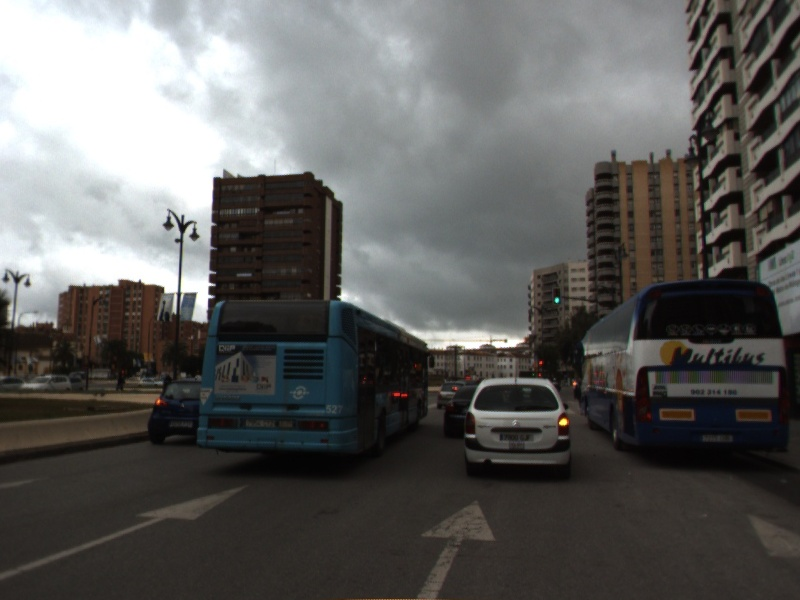STRAIGHT: (1, 481, 257, 582), (412, 496, 500, 600)
